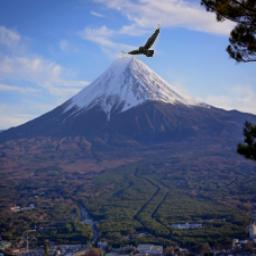Crow: (120, 20, 162, 57)
